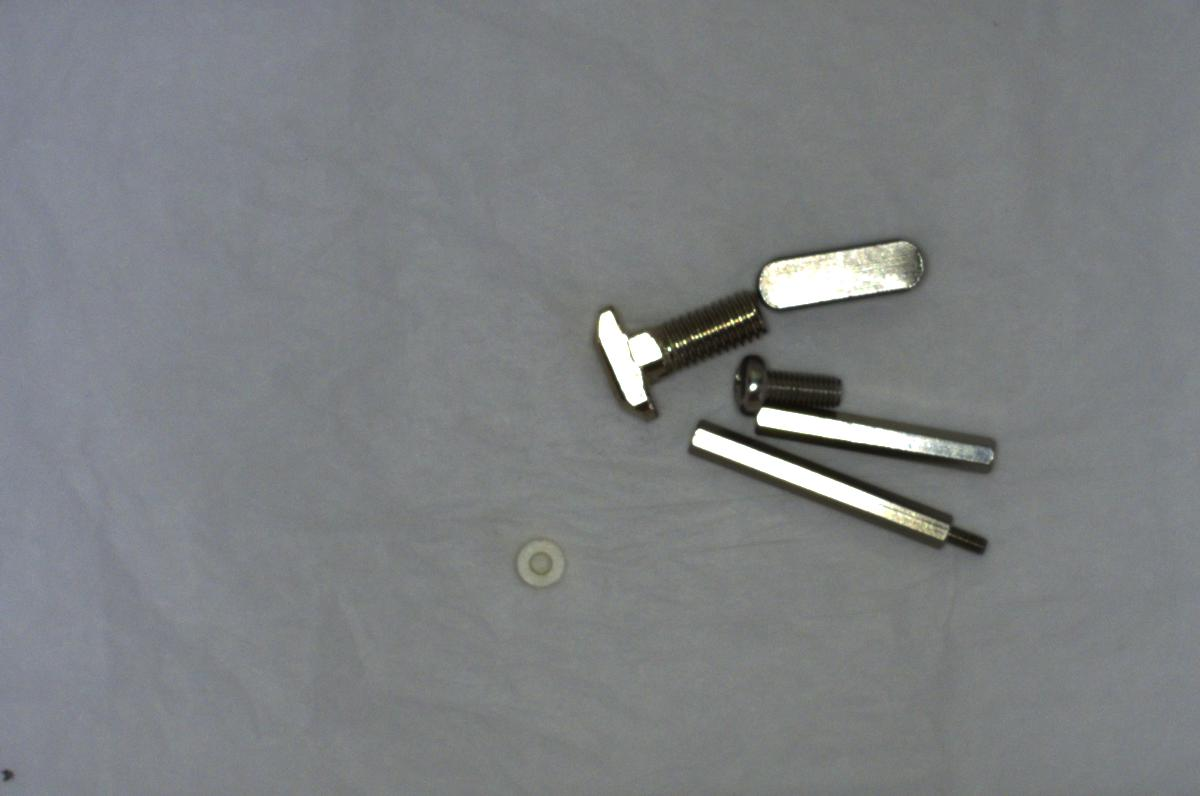Double hexagonal column: (743, 398, 1001, 478)
Hexagonal steel column: (682, 412, 994, 568)
Keybar: (738, 223, 946, 318)
Plastic cushion pillar: (511, 527, 567, 599)
Round head screw: (721, 345, 848, 417)
T-shaped screw: (587, 282, 765, 421)
